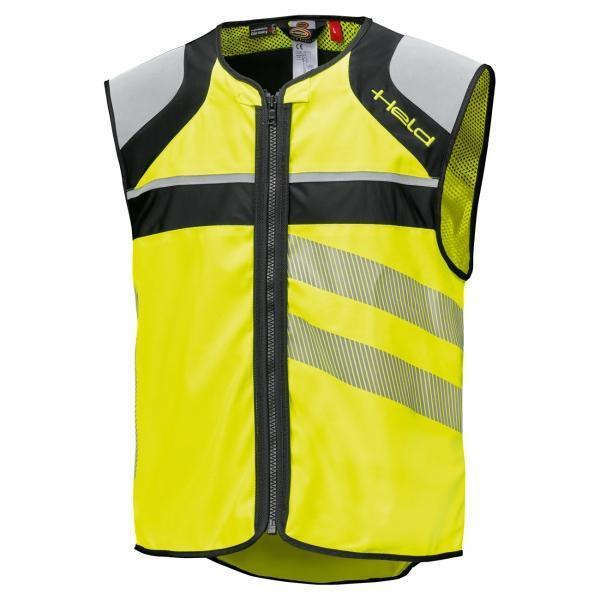vest: (102, 18, 495, 583)
